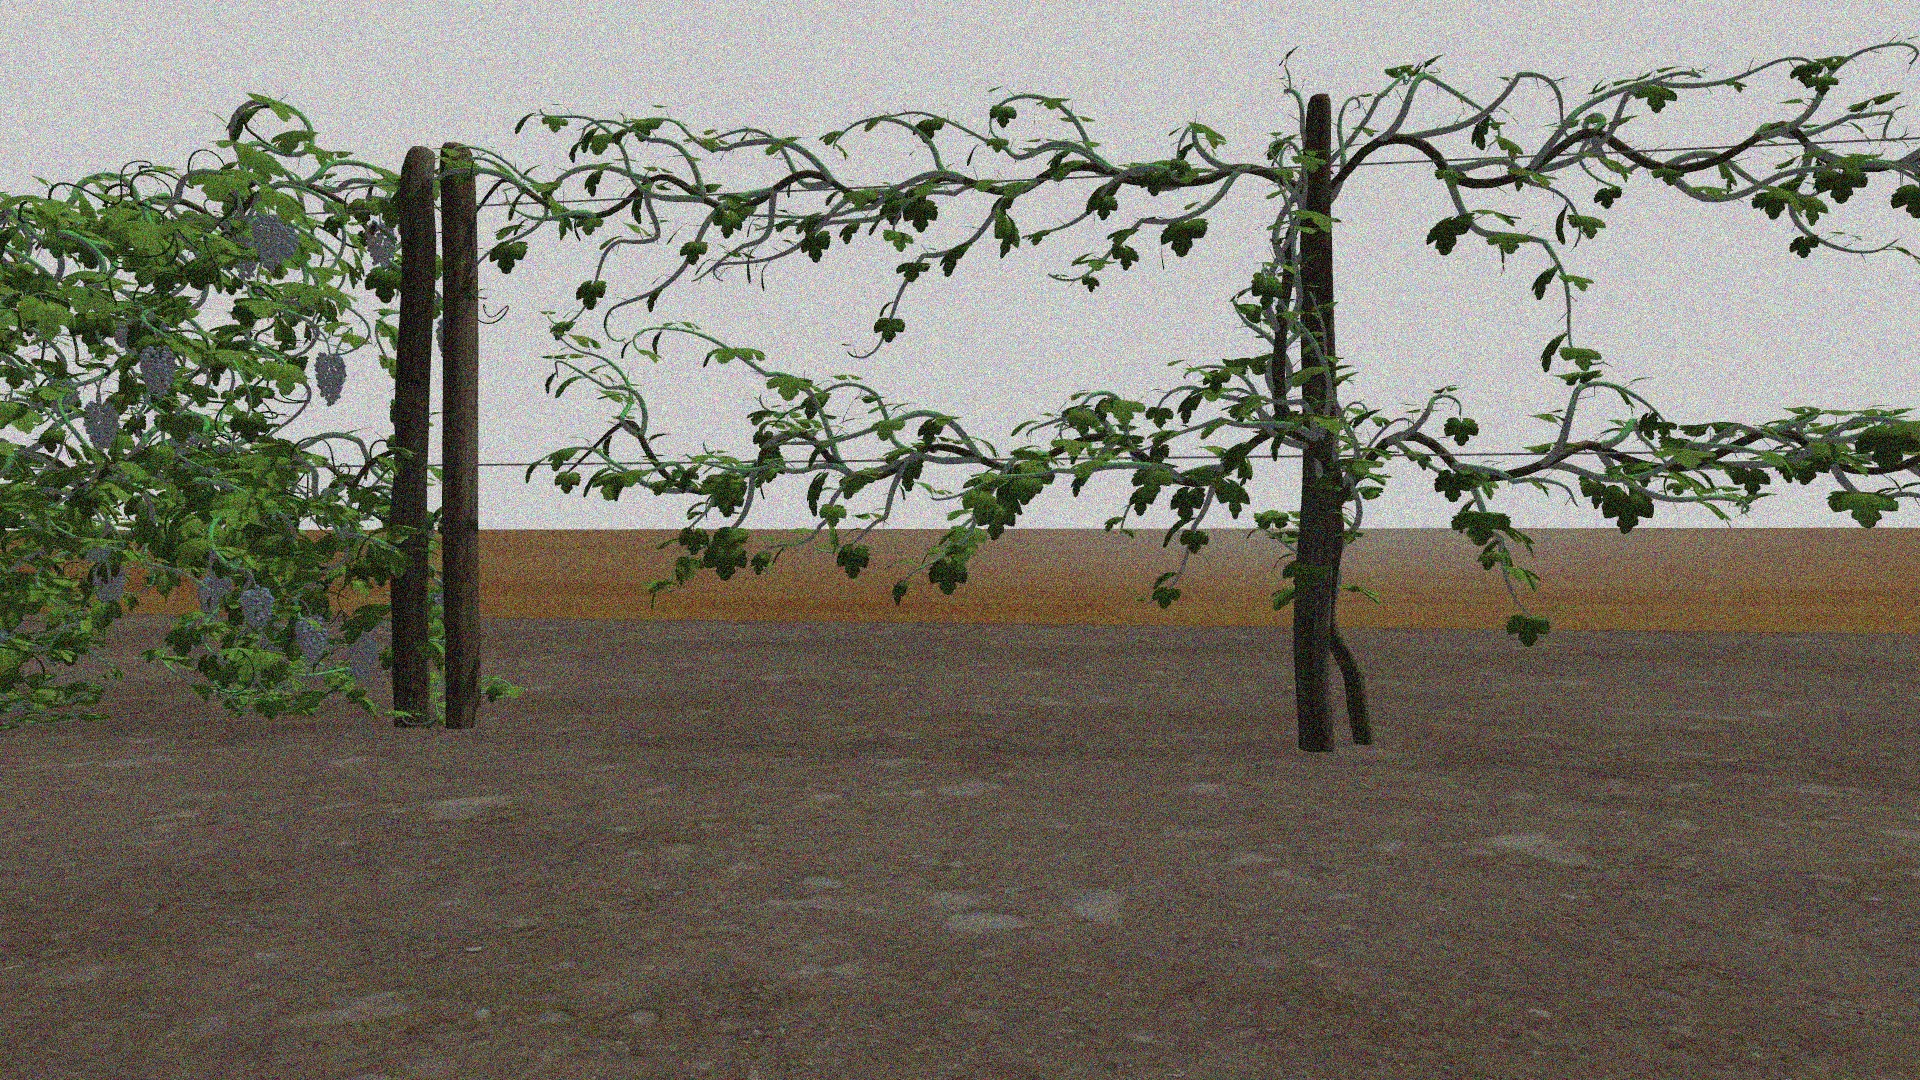grape: (251, 215, 301, 274), (138, 345, 177, 400), (83, 400, 121, 452), (291, 616, 328, 670), (313, 351, 345, 407), (237, 585, 274, 634), (345, 636, 377, 684), (364, 222, 396, 269), (195, 568, 229, 611), (94, 563, 127, 603)
